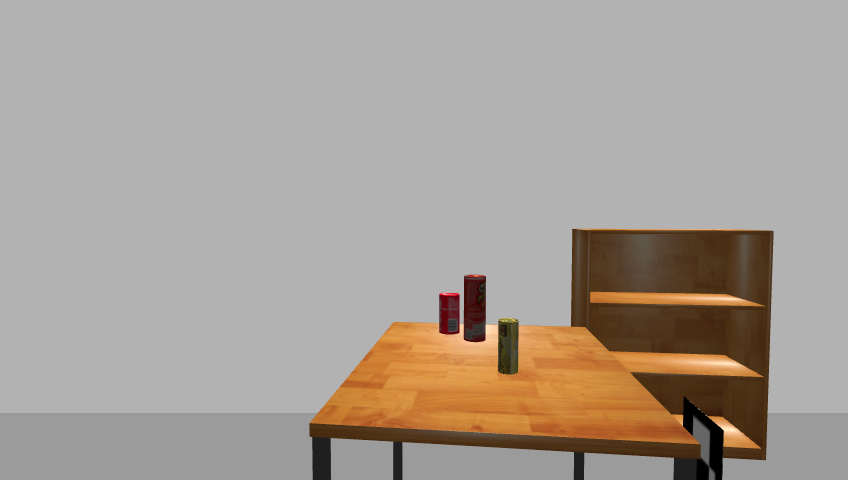aruco marker: (678, 398, 728, 480)
biscuits pack: (497, 318, 520, 376)
bookshelf: (566, 225, 780, 468)
coke can: (438, 292, 462, 337)
dinner table: (303, 320, 703, 480)
pringles can: (462, 274, 488, 344)
